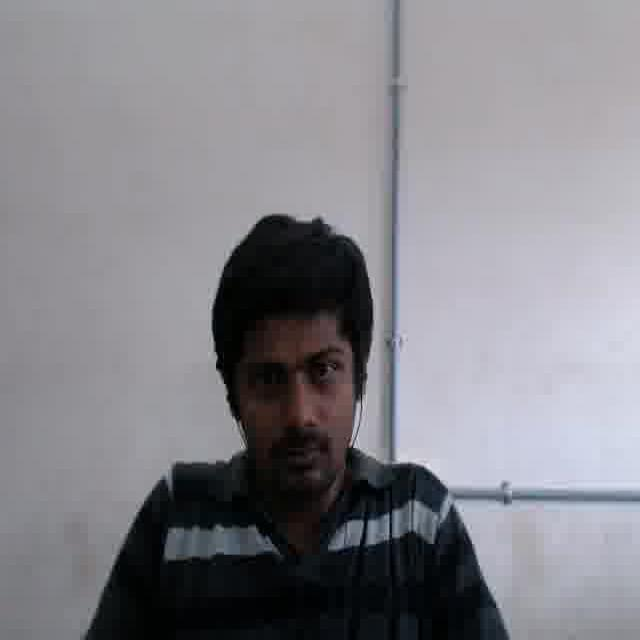Engaged: (229, 304, 352, 505)
